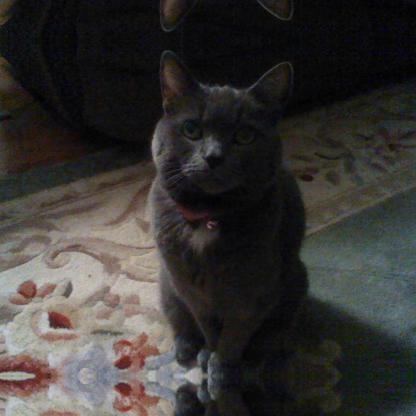Cat: (148, 53, 312, 374)
